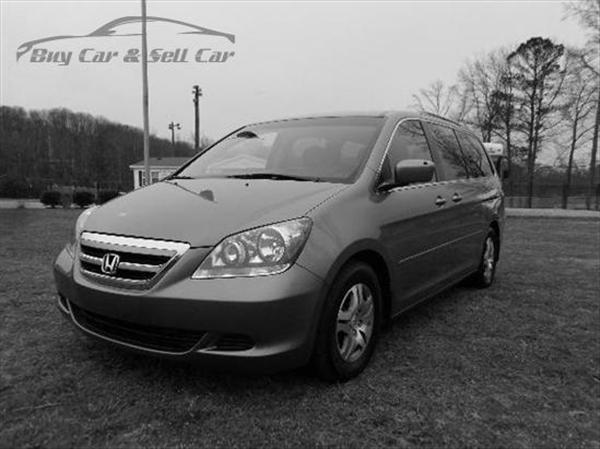car: (53, 109, 506, 379)
